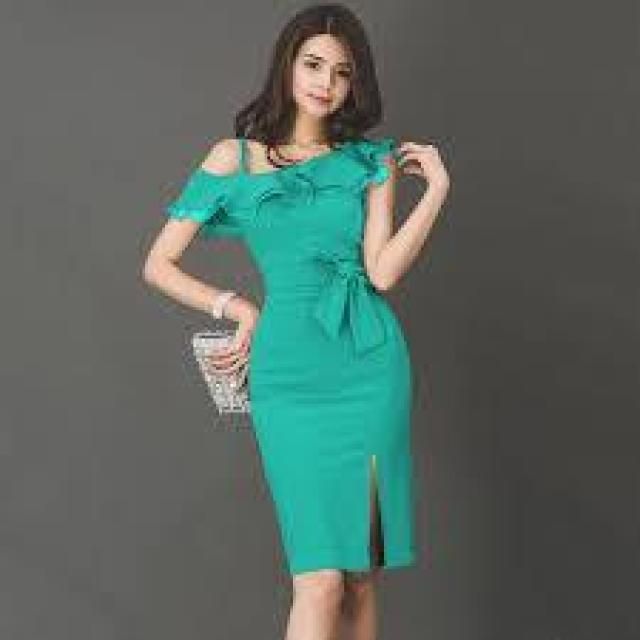dress: (171, 138, 421, 570)
